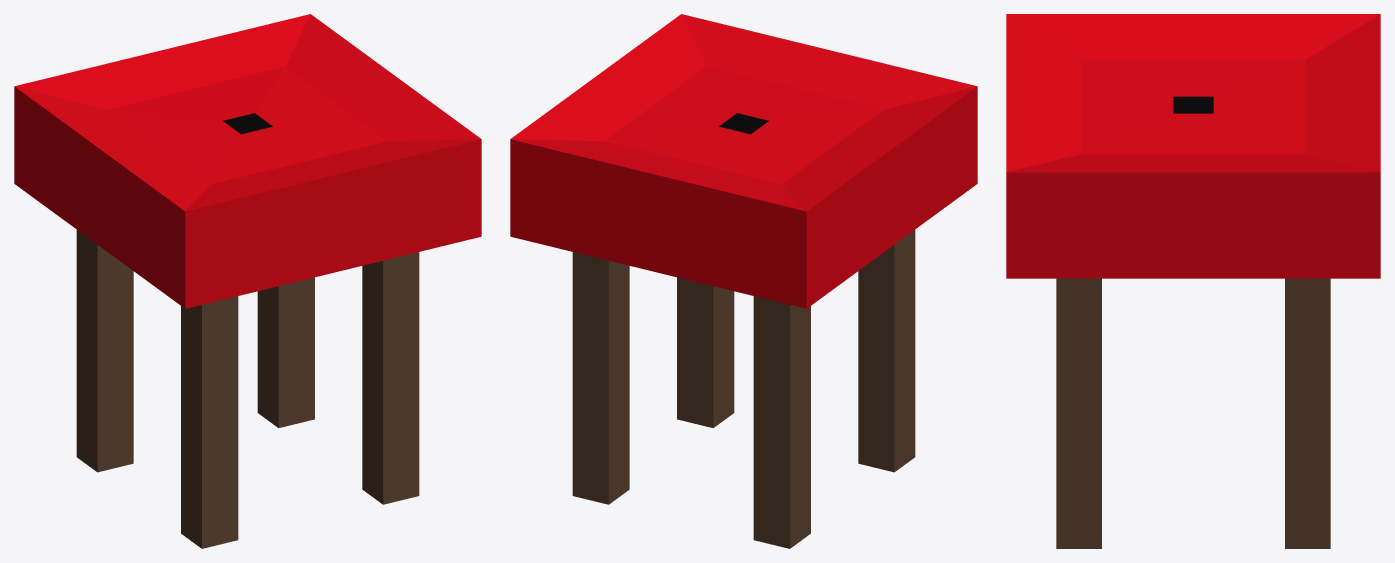
Rendered from taboret.glb.
3 views of the same model, side by side, from view 1: azimuth 30°, elevation 25°; view 2: azimuth 150°, elevation 25°; view 3: azimuth 270°, elevation 25° (orthographic). The views are drawn at different scales.
Visible parts, largest first — view 1: Cube.001, Cube; view 2: Cube.001, Cube; view 3: Cube.001, Cube.
Boxes of the visible parts, box(x1,y1,x2,y2) form: Cube.001: box(14, 14, 481, 308); Cube: box(76, 230, 419, 548); Cube.001: box(510, 14, 977, 308); Cube: box(572, 230, 915, 548); Cube.001: box(1006, 14, 1380, 278); Cube: box(1056, 278, 1330, 548).
Size of the model in its own units: 2.44 by 2.87 by 2.44.
